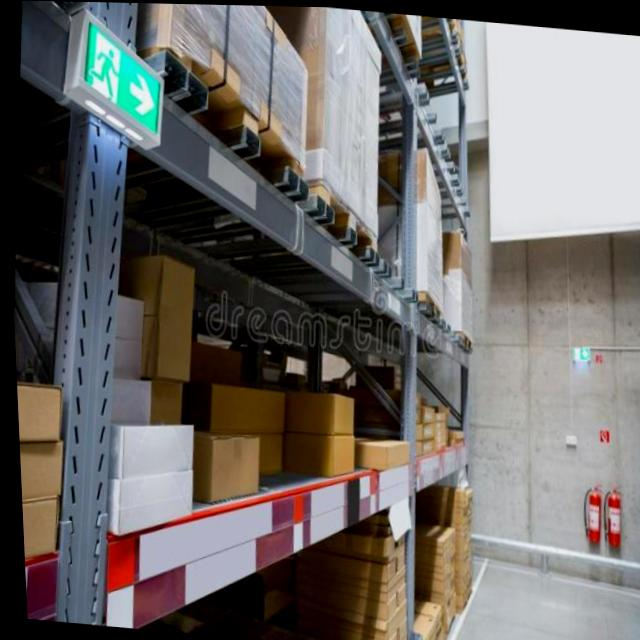FireExtinguisher: (572, 474, 603, 545), (592, 475, 623, 546)
